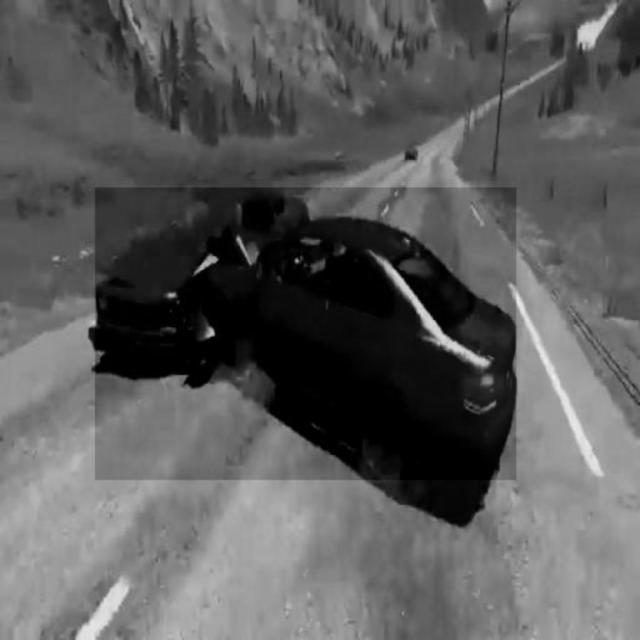accident: (96, 187, 517, 481)
